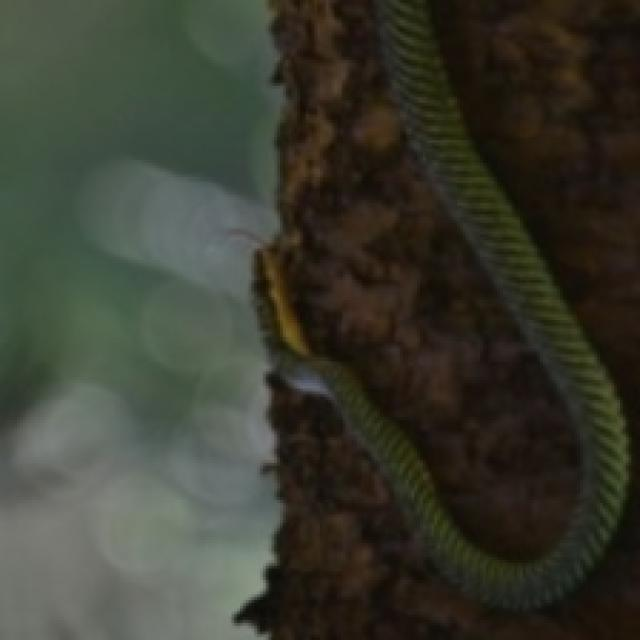paradise tree snake: (274, 0, 586, 557), (243, 377, 637, 637), (431, 0, 637, 360)
